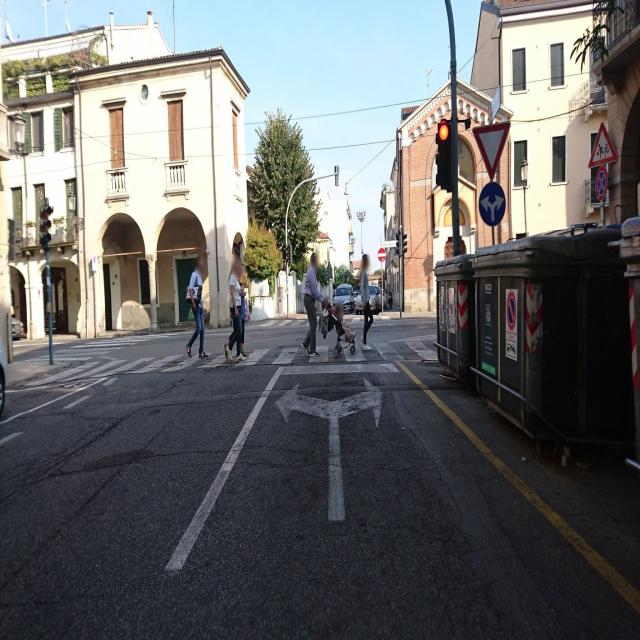car: (332, 283, 364, 315), (367, 284, 383, 314), (11, 318, 26, 342)
